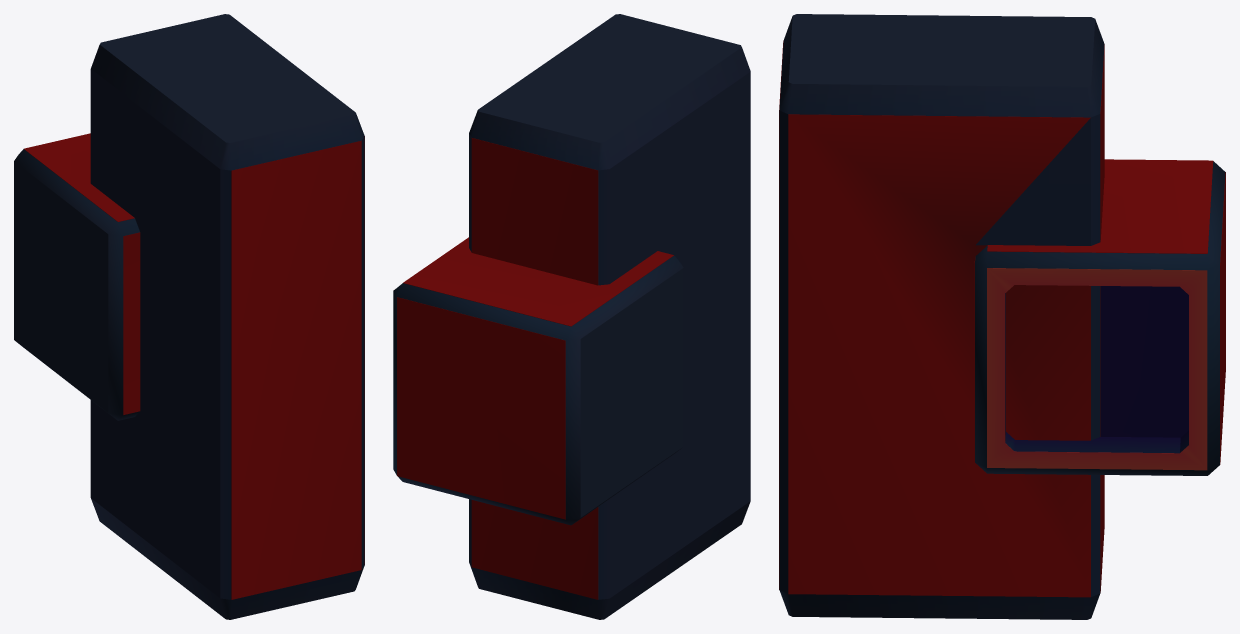
The picture shows the model from 3 angles, left to right: view 1: azimuth 30°, elevation 25°; view 2: azimuth 150°, elevation 25°; view 3: azimuth 270°, elevation 25°; orthographic projection. The views are drawn at different scales.
Parts seen in each view (by area): view 1: body, red_end.001, projecting, red_face.001, red_top; view 2: body, red_face, projecting, red_end, red_top; view 3: red_side, body, projecting, border, red_top, red_end, red_face.
Boxes of the visible parts, x1=… form: body: x1=90, y1=14, x2=364, y2=619; red_end.001: x1=231, y1=140, x2=361, y2=599; projecting: x1=14, y1=149, x2=139, y2=420; red_face.001: x1=123, y1=232, x2=140, y2=414; red_top: x1=24, y1=133, x2=134, y2=221; body: x1=469, y1=14, x2=750, y2=619; red_face: x1=397, y1=297, x2=565, y2=519; projecting: x1=393, y1=255, x2=683, y2=525; red_end: x1=471, y1=138, x2=598, y2=599; red_top: x1=403, y1=237, x2=673, y2=326; red_side: x1=788, y1=114, x2=1090, y2=597; body: x1=779, y1=14, x2=1104, y2=619; projecting: x1=975, y1=161, x2=1225, y2=475; border: x1=987, y1=268, x2=1207, y2=470; red_top: x1=987, y1=159, x2=1213, y2=253; red_end: x1=1100, y1=44, x2=1104, y2=592; red_face: x1=1220, y1=172, x2=1225, y2=464.
Bounding box in the file's own units: 0.7676 × 1.8 × 1.37.
